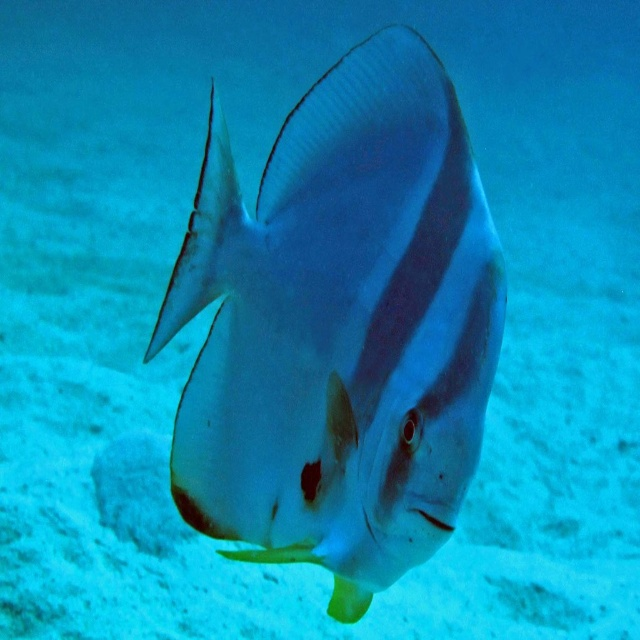Fish: (130, 0, 524, 638)
